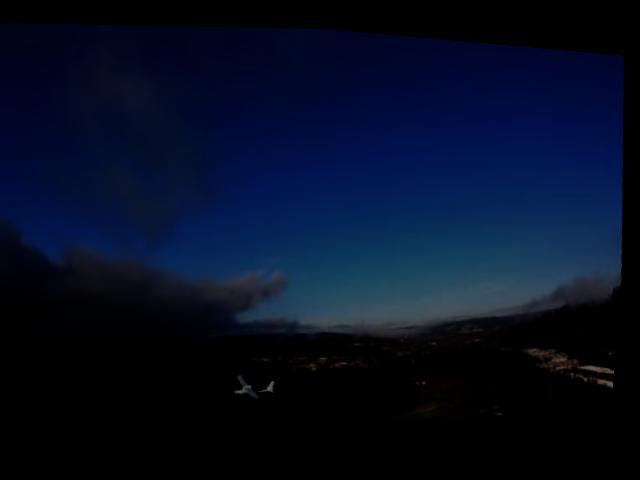uav: (225, 351, 288, 406)
